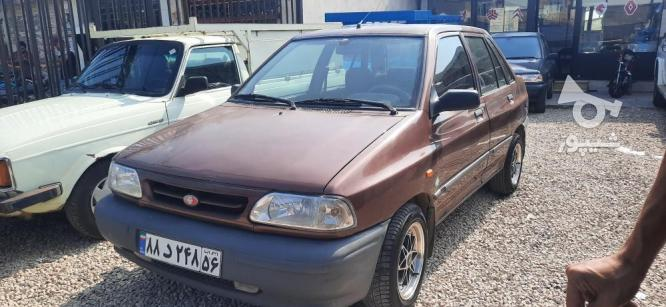car: (136, 230, 223, 280)
